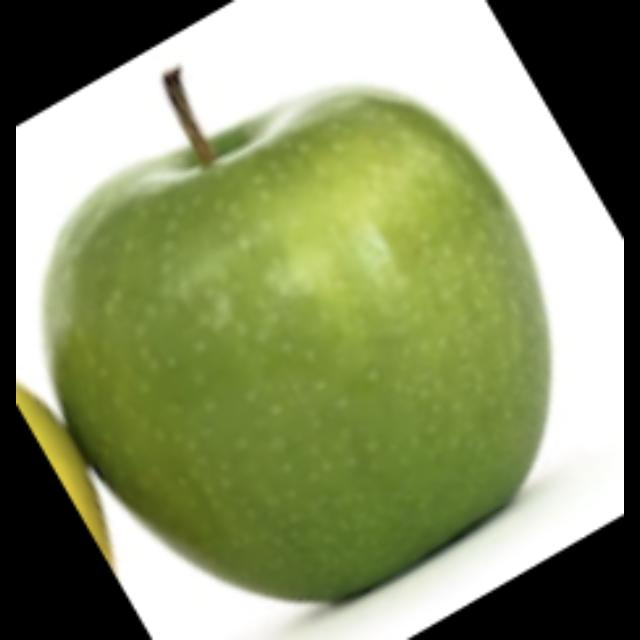Apel Segar: (39, 86, 545, 596)
